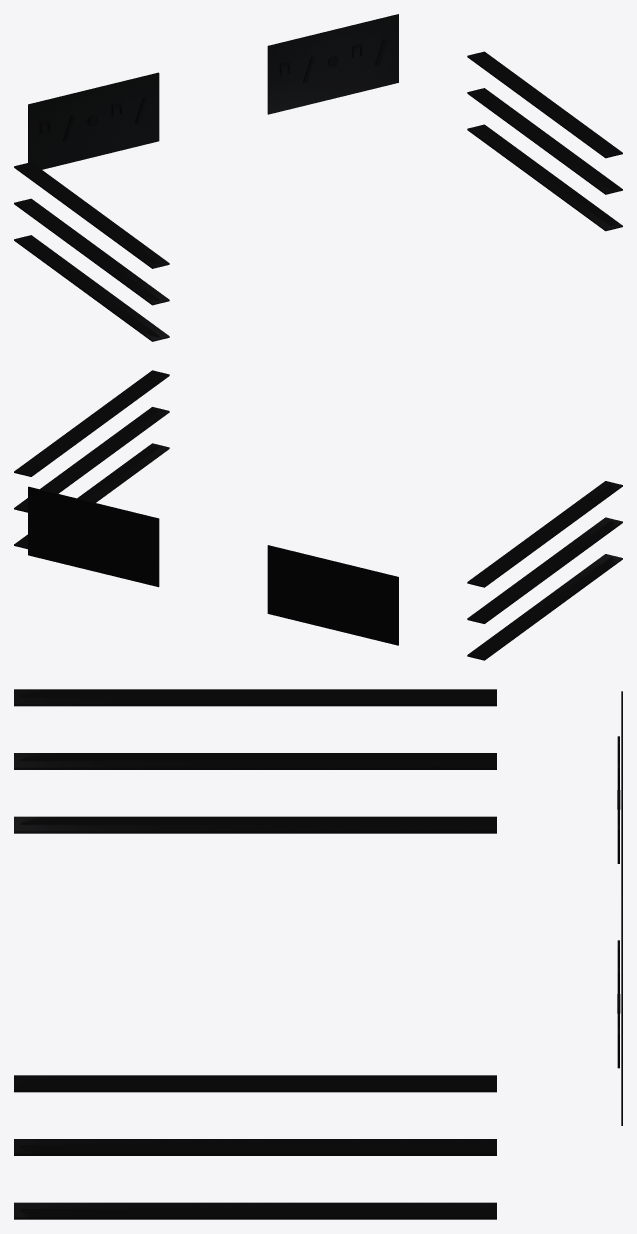
File: shelves.glb
3 views of the same model, one above another, from view 1: azimuth 30°, elevation 25°; view 2: azimuth 150°, elevation 25°; view 3: azimuth 270°, elevation 25° (orthographic). The views are drawn at different scales.
Visible parts, largest first — view 1: baked_shelves; view 2: baked_shelves; view 3: baked_shelves.
Part boxes in pixels (x1,y1,x2,y2): baked_shelves: (14,14,622,341); baked_shelves: (14,370,622,660); baked_shelves: (14,689,622,1219).
Bounding box in the file's own units: 43.2 × 8.56 × 27.74.
1 material, 1 textured.
